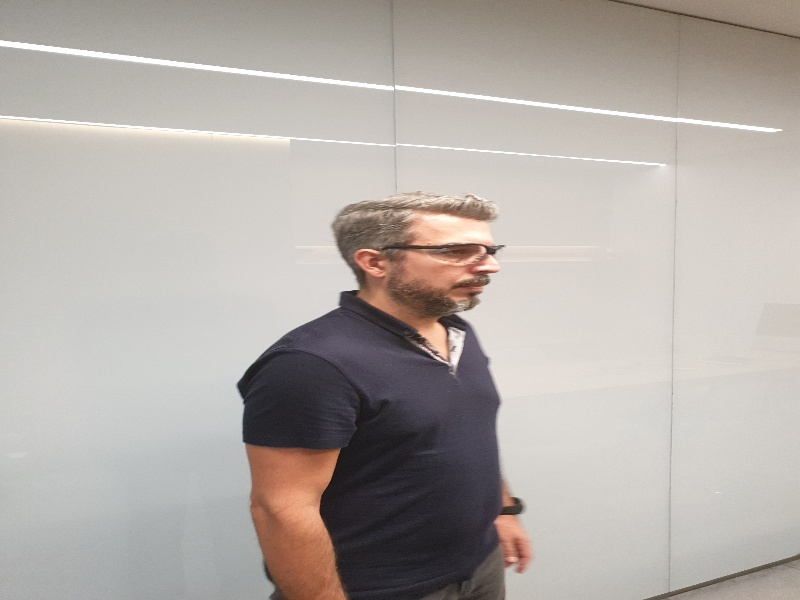Gozluk: (384, 242, 508, 261)
